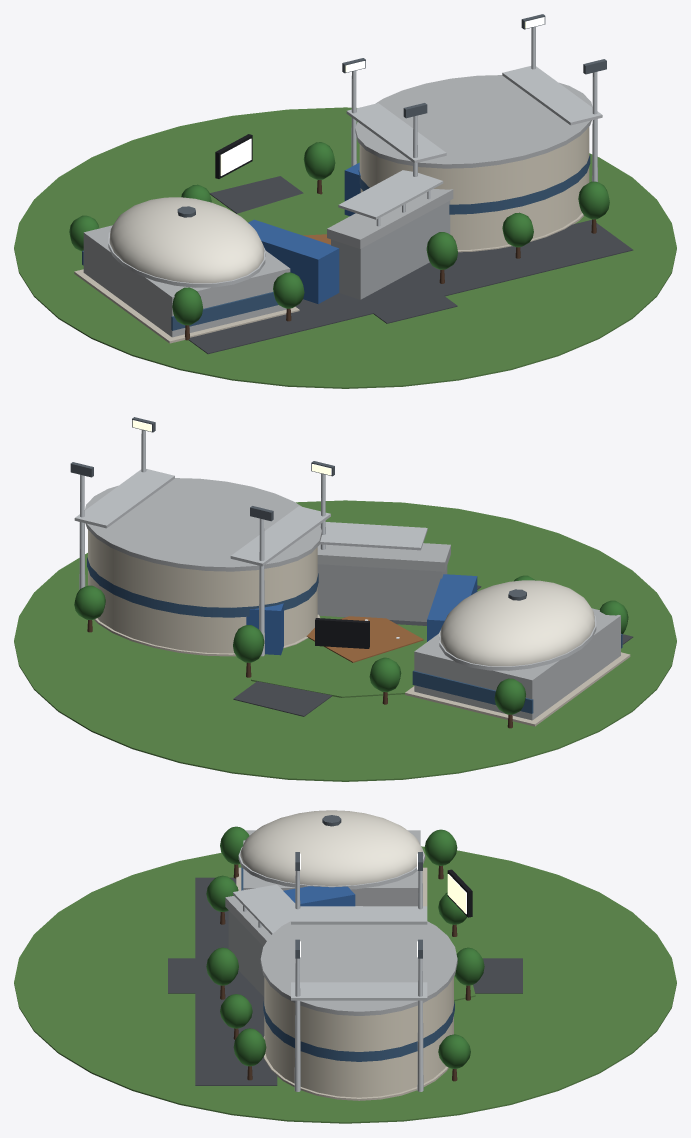
File: mokdong-stadium.glb
3 renders of one model, top to bottom at view 1: azimuth 30°, elevation 25°; view 2: azimuth 150°, elevation 25°; view 3: azimuth 270°, elevation 25°, orthographic.
Size of the model in its own units: 97.2 by 24.08 by 97.2.
